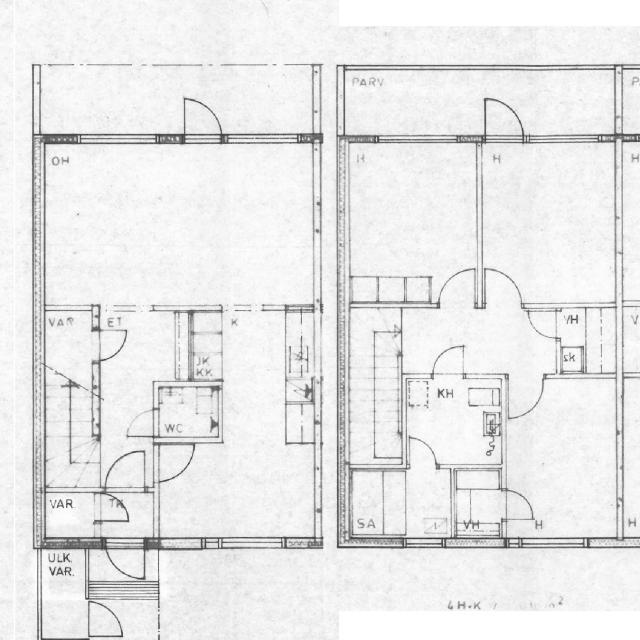door: (106, 537, 145, 587), (106, 448, 144, 492), (485, 98, 523, 142), (153, 444, 196, 482), (185, 98, 221, 143), (439, 267, 475, 308), (485, 268, 521, 308), (508, 374, 544, 414), (86, 601, 124, 637), (92, 330, 131, 361), (433, 345, 463, 378), (95, 494, 127, 521), (528, 311, 560, 338), (409, 438, 436, 469), (127, 410, 159, 436), (502, 492, 533, 518)
